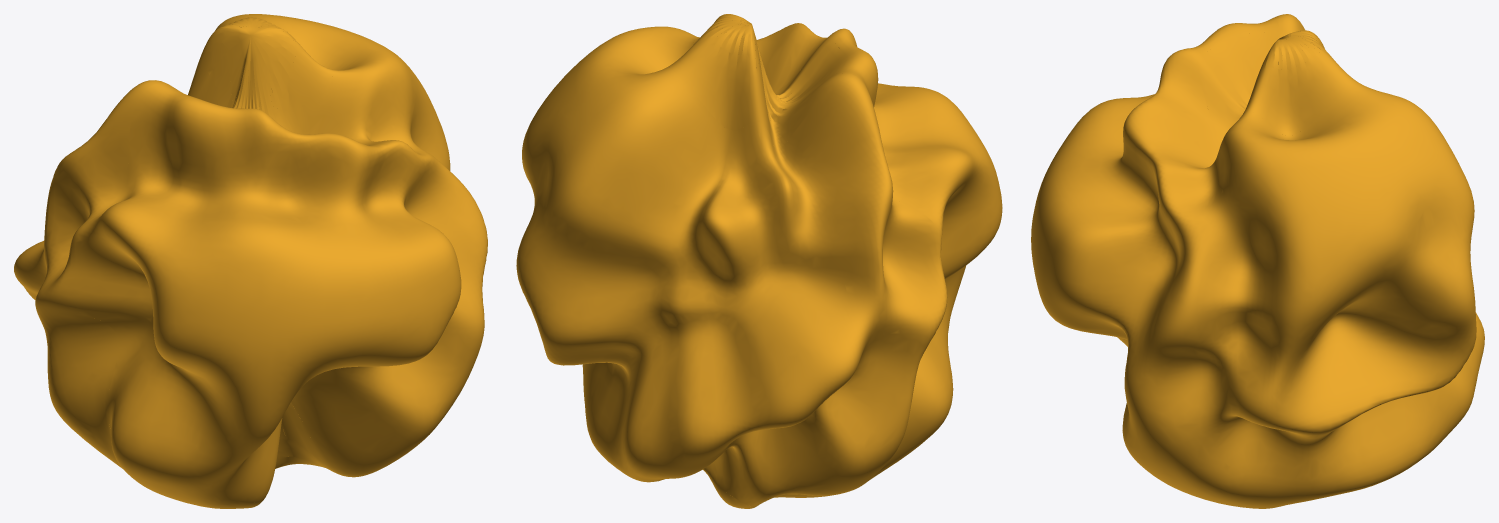
File: form_1.glb
3 renders of one model, left to right at view 1: azimuth 30°, elevation 25°; view 2: azimuth 150°, elevation 25°; view 3: azimuth 270°, elevation 25°, orthographic. The views are drawn at different scales.
Parts seen in each view (by area): view 1: Sphere; view 2: Sphere; view 3: Sphere.
Part boxes in pixels (x1=…): Sphere: x1=14, y1=14, x2=487, y2=508; Sphere: x1=516, y1=14, x2=1002, y2=508; Sphere: x1=1031, y1=14, x2=1484, y2=508.
Size of the model in its own units: 2.57 by 2.75 by 2.52.
